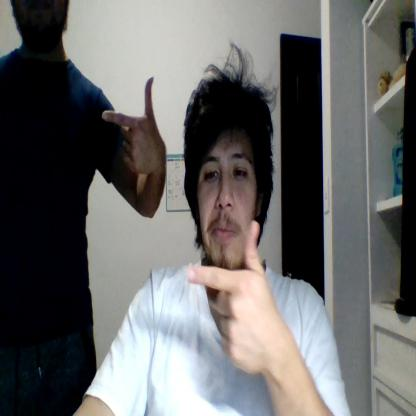G: (187, 220, 275, 374), (102, 74, 160, 174)
